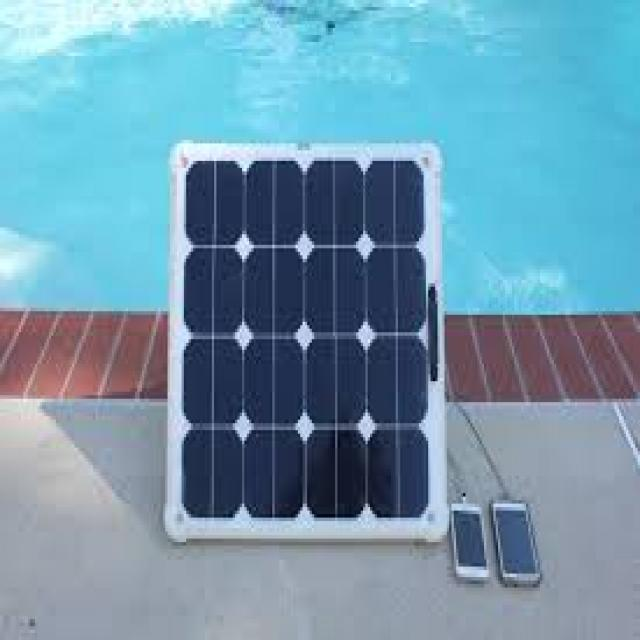no faulty: (186, 156, 428, 507)
